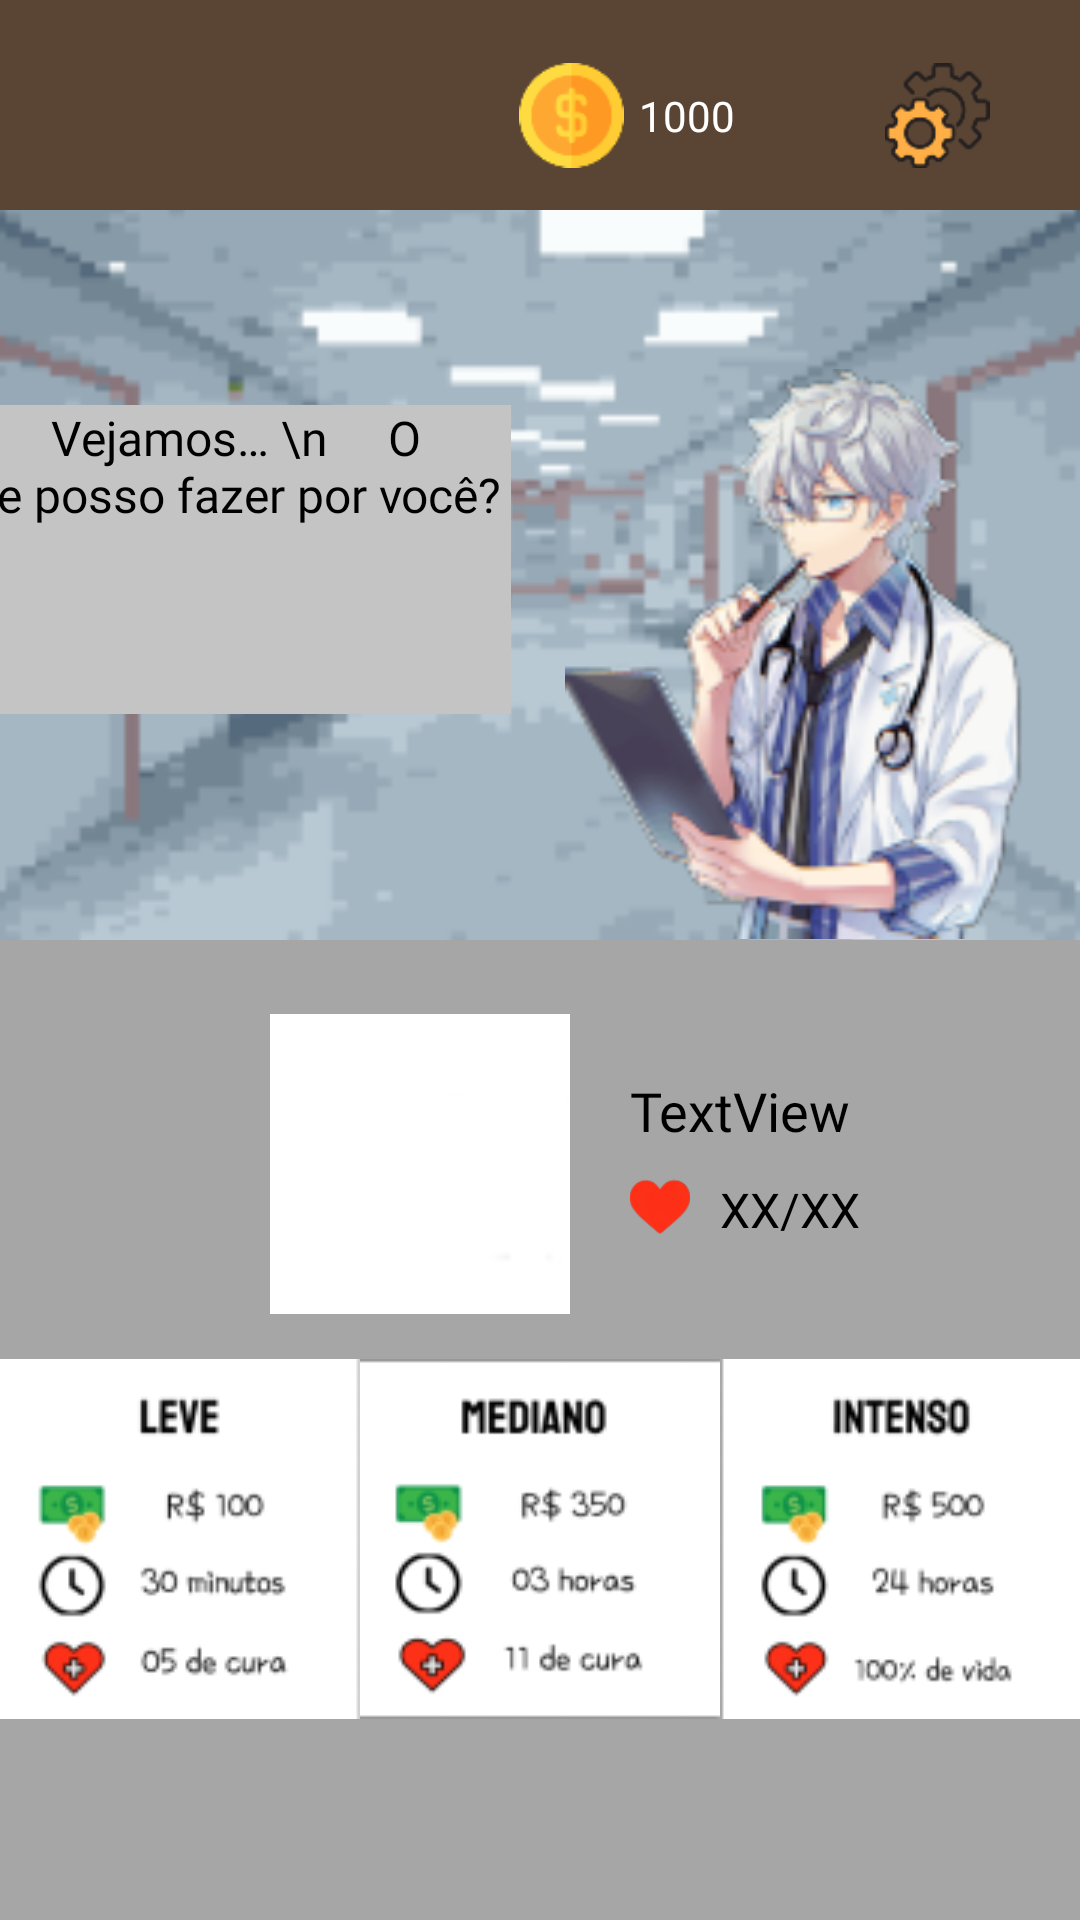

Locate icon controls on the screen. Image size 1080px×1920px, boxes as bbox=(x1, y1, x2, y2).
config: bbox=(885, 63, 990, 168)
coracao: bbox=(630, 1180, 690, 1234)
moeda: bbox=(519, 63, 624, 168)
